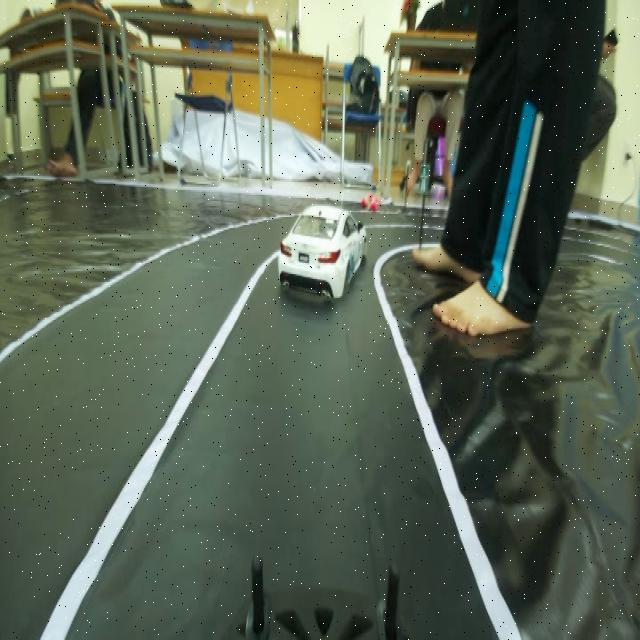car: (274, 193, 369, 309)
